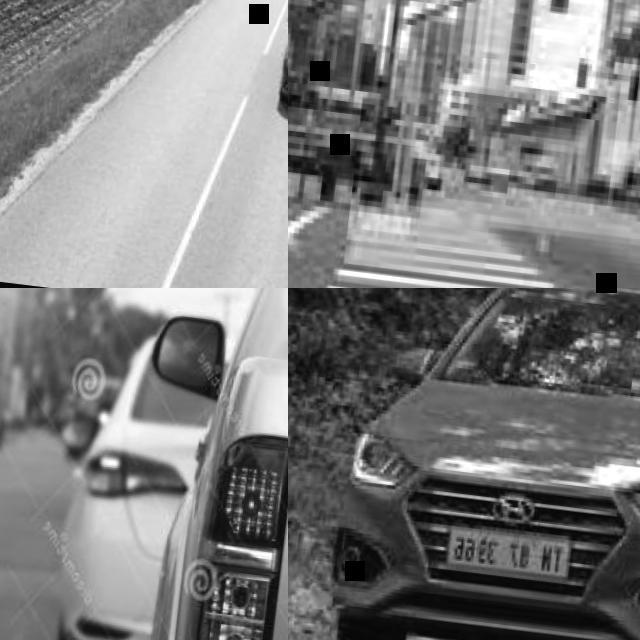car: (352, 266, 639, 614), (39, 276, 288, 637)
